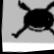not correct: (8, 0, 54, 42)
